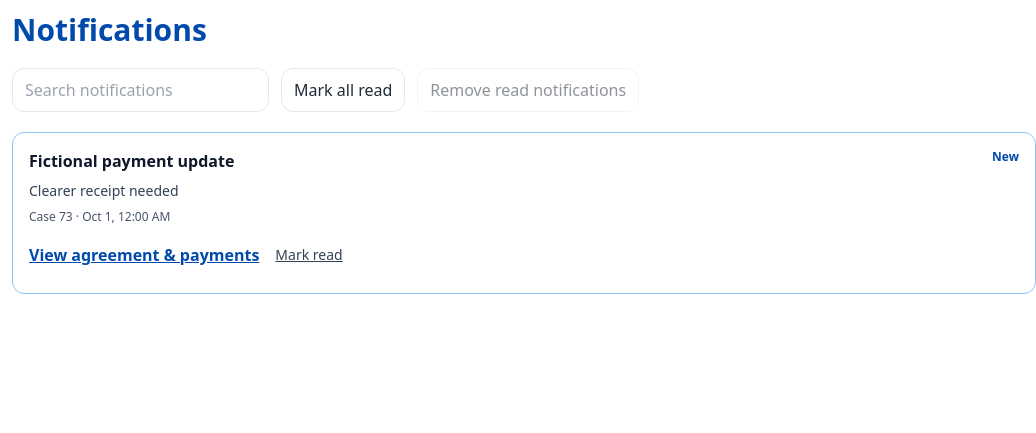
Test: notifications expose contextual links and failed updates stay actionable
Click the button "Mark read" at (309, 255), box top-left (275, 233), bottom-right (343, 277)
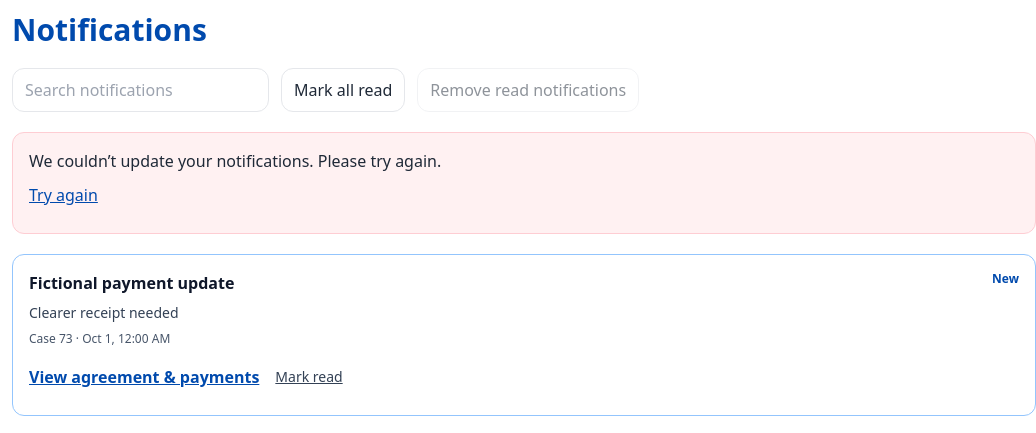
Expected: the heading "Fictional payment update" is shown, top-left (29, 271), bottom-right (234, 295)
Now the text "We couldn’t update your notifications. Please try again." is shown, box top-left (29, 150), bottom-right (441, 172)
